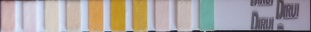color 1: (2, 2, 13, 31)
color 10: (201, 1, 212, 29)
color 2: (24, 3, 36, 30)
color 3: (46, 2, 58, 30)
color 4: (67, 2, 80, 29)
color 5: (90, 2, 102, 30)
color 6: (111, 1, 124, 30)
color 7: (133, 2, 146, 30)
color 8: (156, 2, 168, 30)
color 9: (178, 1, 190, 29)
